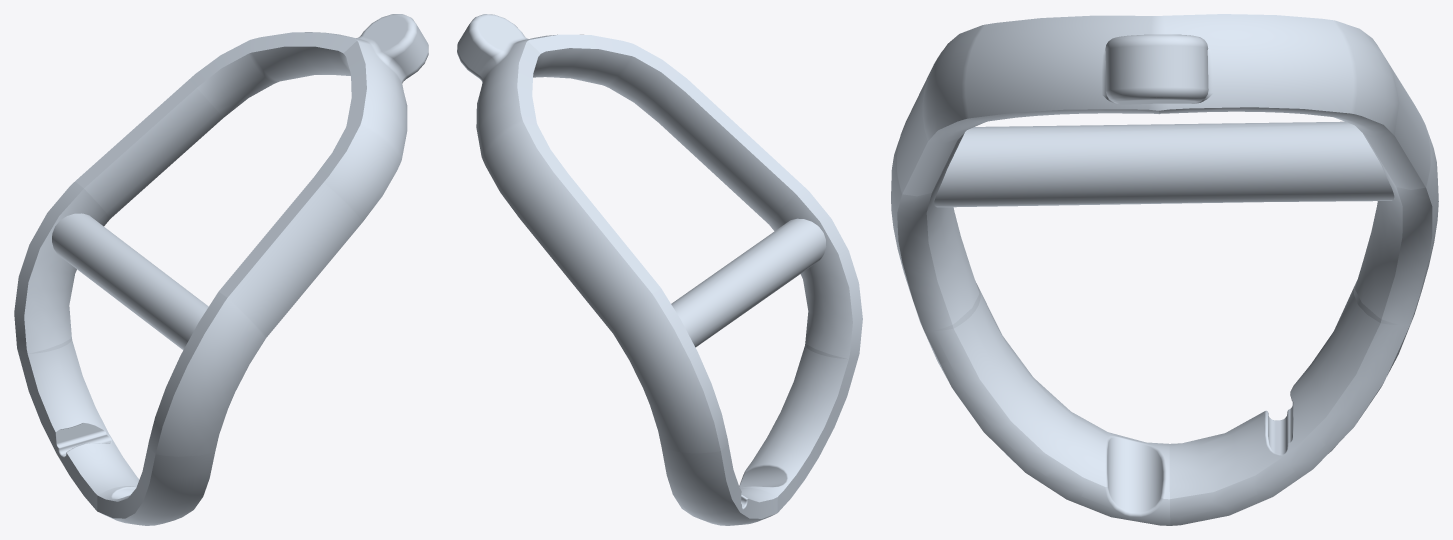
File: RB-025_viewer.glb
The picture shows the model from 3 angles, left to right: view 1: azimuth 30°, elevation 25°; view 2: azimuth 150°, elevation 25°; view 3: azimuth 270°, elevation 25°; orthographic projection. The views are drawn at different scales.
Visible parts, largest first — view 1: basebody_imported1; view 2: basebody_imported1; view 3: basebody_imported1.
Boxes of the visible parts, x1,y1,x2,y2 form: basebody_imported1: [14, 14, 428, 525]; basebody_imported1: [457, 14, 862, 525]; basebody_imported1: [891, 14, 1438, 525].
Bounding box in the file's own units: 0.0383 × 0.0476 × 0.0342.
